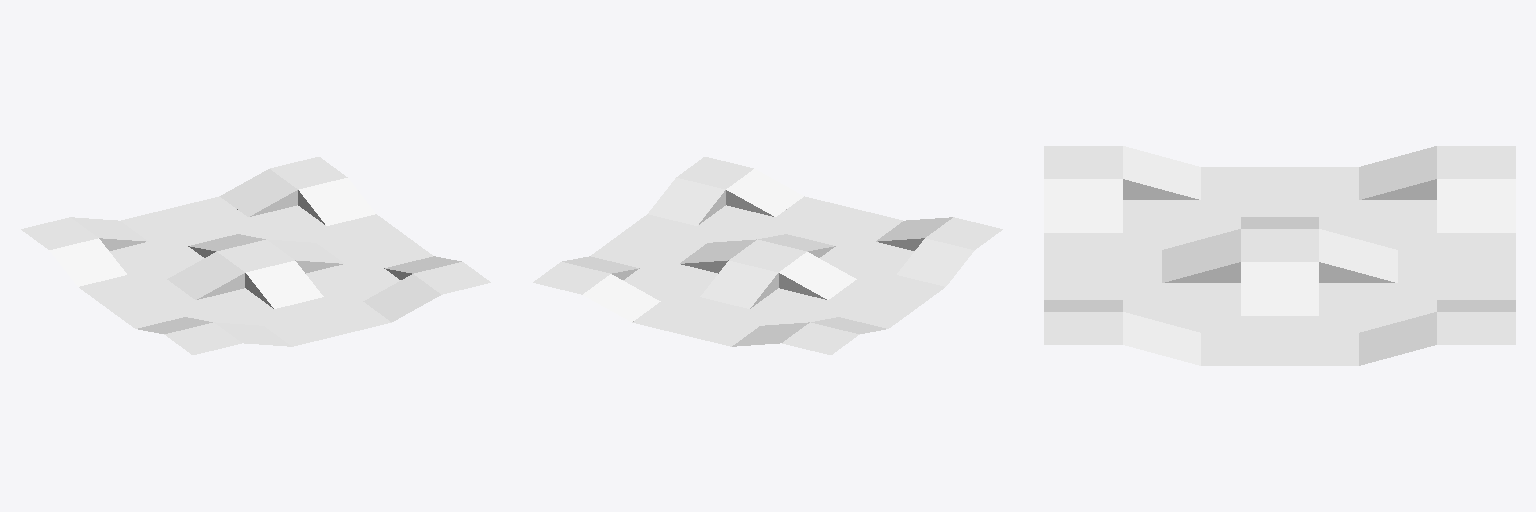
URDF robot description (tag1_1):
<?xml version="1.0" ?>
<robot name="tag1_1">
  <link name="ground">
  <contact>
      <lateral_friction value="2"/>
  </contact>
    <inertial>
      <origin rpy="0 0 0" xyz="0 0 0"/>
       <mass value="1000.0"/>
       <inertia ixx="0" ixy="0" ixz="0" iyy="0" iyz="0" izz="0"/>
    </inertial>
    <visual>
      <origin rpy="0 0 0" xyz="0 0 0"/>
      <geometry>
        <mesh filename="tag1_3.obj" scale="1 1 1"/>
      </geometry>
       <material name="white">
        <color rgba="1 1 1 1"/>
      </material>
    </visual>
        <collision concave="yes">
      <origin rpy="0 0 0" xyz="0 0 0"/>
      <geometry>
        <mesh filename="tag1_3.obj" scale="1 1 1"/>
      </geometry>
    </collision>
  </link>
</robot>

--- What the picture shows (computed from the rendered views, not written in the file) ---
3 views of the same robot in one strip: view 1: azimuth 30°, elevation 25°; view 2: azimuth 150°, elevation 25°; view 3: azimuth 270°, elevation 25° (orthographic).
Model tag1_1 with 1 links and 0 joints (none), rooted at ground, posed every joint at zero.
Visible links, largest first — view 1: ground; view 2: ground; view 3: ground.
Boxes of the visible links, box(x1,y1,x2,y2) form: ground: box(21, 157, 490, 354); ground: box(533, 157, 1002, 354); ground: box(1044, 146, 1515, 365).
Size in the robot's own frame: 30 by 30 by 1.5 metres.
Meshes: 1 distinct files referenced, 1 mesh visuals loaded (1 OBJ).